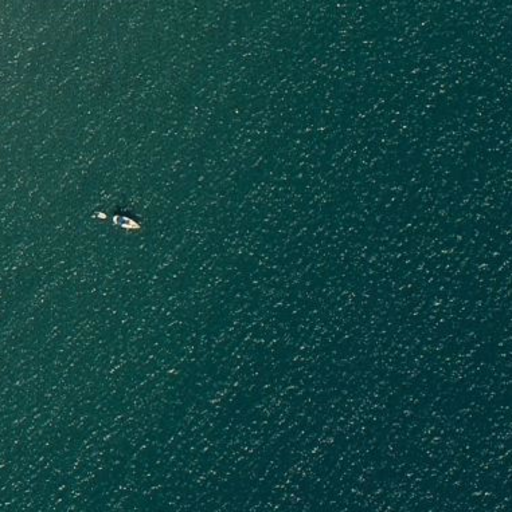ship: (89, 209, 142, 235)
